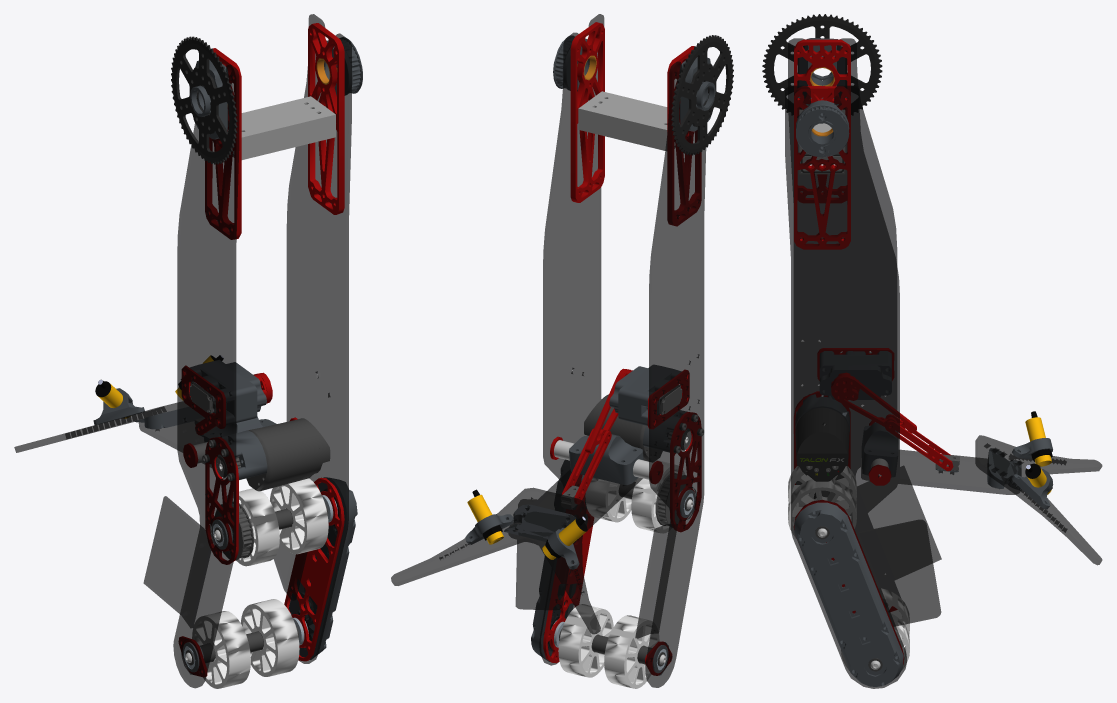
The picture shows the model from 3 angles, left to right: view 1: azimuth 30°, elevation 25°; view 2: azimuth 150°, elevation 25°; view 3: azimuth 270°, elevation 25°; orthographic projection. The views are drawn at different scales.
Visible parts, largest first — view 1: Right Poly Side, Linkage 2, am-3946 3IN 500Hex Molded Compliant Wheel VER 2, linkage spacer, Spacer (Configurable), 64T #25 Plate Sprocket MAXSpline (REV-21-1972), Tube 2"x1"x4.5", .5" Hex ID 1.125" OD Flanged Bearing (217-2734), 2" x 1" Tube Plug 0.06" Wall, #10-32 Tapped (WCP-0374 & WCP-, BeamBreak; view 2: Right Poly Side, Linkage 2, linkage spacer, am-3946 3IN 500Hex Molded Compliant Wheel VER 2, 64T #25 Plate Sprocket MAXSpline (REV-21-1972), Tube 2"x1"x4.5", Spacer (Configurable), BeamBreak, 2" x 1" Tube Plug 0.06" Wall, #10-32 Tapped (WCP-0374 & WCP-, .5" Hex ID 1.125" OD Flanged Bearing (217-2734), Dead Axle Tube - 4.75in (REV-21-2510); view 3: Right Poly Side, linkage spacer, Linkage 2, 64T #25 Plate Sprocket MAXSpline (REV-21-1972), am-3946 3IN 500Hex Molded Compliant Wheel VER 2, Spacer (Configurable), BeamBreak.
Boxes of the visible parts, x1,y1,x2,y2 form: Right Poly Side: (14, 14, 351, 688); Linkage 2: (179, 23, 344, 676); am-3946 3IN 500Hex Molded Compliant Wheel VER 2: (192, 478, 328, 688); linkage spacer: (93, 37, 362, 659); Spacer (Configurable): (189, 382, 330, 662); 64T #25 Plate Sprocket MAXSpline (REV-21-1972): (171, 36, 237, 164); Tube 2"x1"x4.5": (228, 96, 335, 159); .5" Hex ID 1.125" OD Flanged Bearing (217-2734): (183, 495, 337, 671); 2" x 1" Tube Plug 0.06" Wall, #10-32 Tapped (WCP-0374 & WCP-: (195, 104, 320, 661); BeamBreak: (95, 355, 223, 418); Right Poly Side: (391, 14, 706, 687); Linkage 2: (543, 22, 701, 675); linkage spacer: (465, 35, 715, 661); am-3946 3IN 500Hex Molded Compliant Wheel VER 2: (558, 460, 684, 688); 64T #25 Plate Sprocket MAXSpline (REV-21-1972): (671, 35, 733, 155); Tube 2"x1"x4.5": (578, 91, 675, 150); Spacer (Configurable): (559, 385, 682, 664); BeamBreak: (467, 489, 587, 559); 2" x 1" Tube Plug 0.06" Wall, #10-32 Tapped (WCP-0374 & WCP-: (561, 98, 686, 663); .5" Hex ID 1.125" OD Flanged Bearing (217-2734): (551, 475, 695, 672); Dead Axle Tube - 4.75in (REV-21-2510): (554, 437, 688, 479); Right Poly Side: (785, 38, 1102, 688); linkage spacer: (794, 38, 1053, 686); Linkage 2: (794, 39, 953, 664); 64T #25 Plate Sprocket MAXSpline (REV-21-1972): (762, 14, 882, 112); am-3946 3IN 500Hex Molded Compliant Wheel VER 2: (788, 466, 909, 670); Spacer (Configurable): (795, 408, 849, 498); BeamBreak: (1025, 411, 1052, 494).
Bounding box in the file's own units: 0.2585 × 0.756 × 0.3757.
